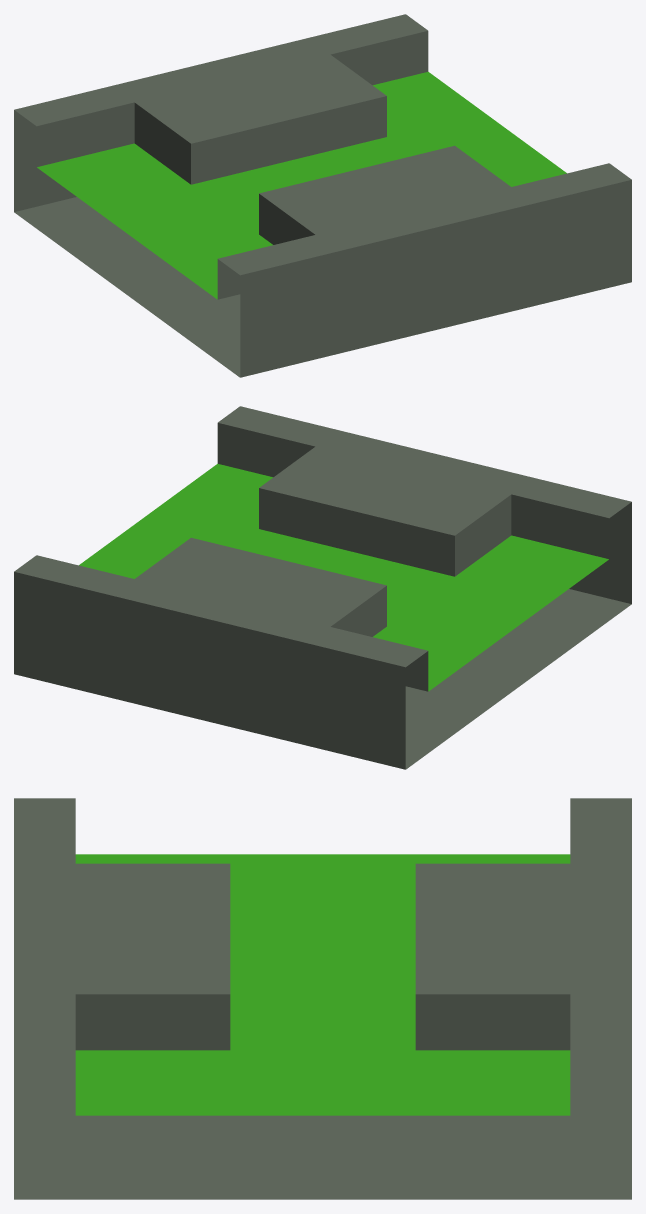
The model's file is StraightNarrow.fbx.
3 views of the same model, one above another, from view 1: azimuth 30°, elevation 25°; view 2: azimuth 150°, elevation 25°; view 3: azimuth 270°, elevation 25° (orthographic). The views are drawn at different scales.
Visible parts, largest first — view 1: StraightNarrow; view 2: StraightNarrow; view 3: StraightNarrow.
Boxes of the visible parts, x1,y1,x2,y2 form: StraightNarrow: (14,14,631,377); StraightNarrow: (14,406,631,769); StraightNarrow: (14,798,631,1199).
Size of the model in its own units: 200 by 50 by 200.
